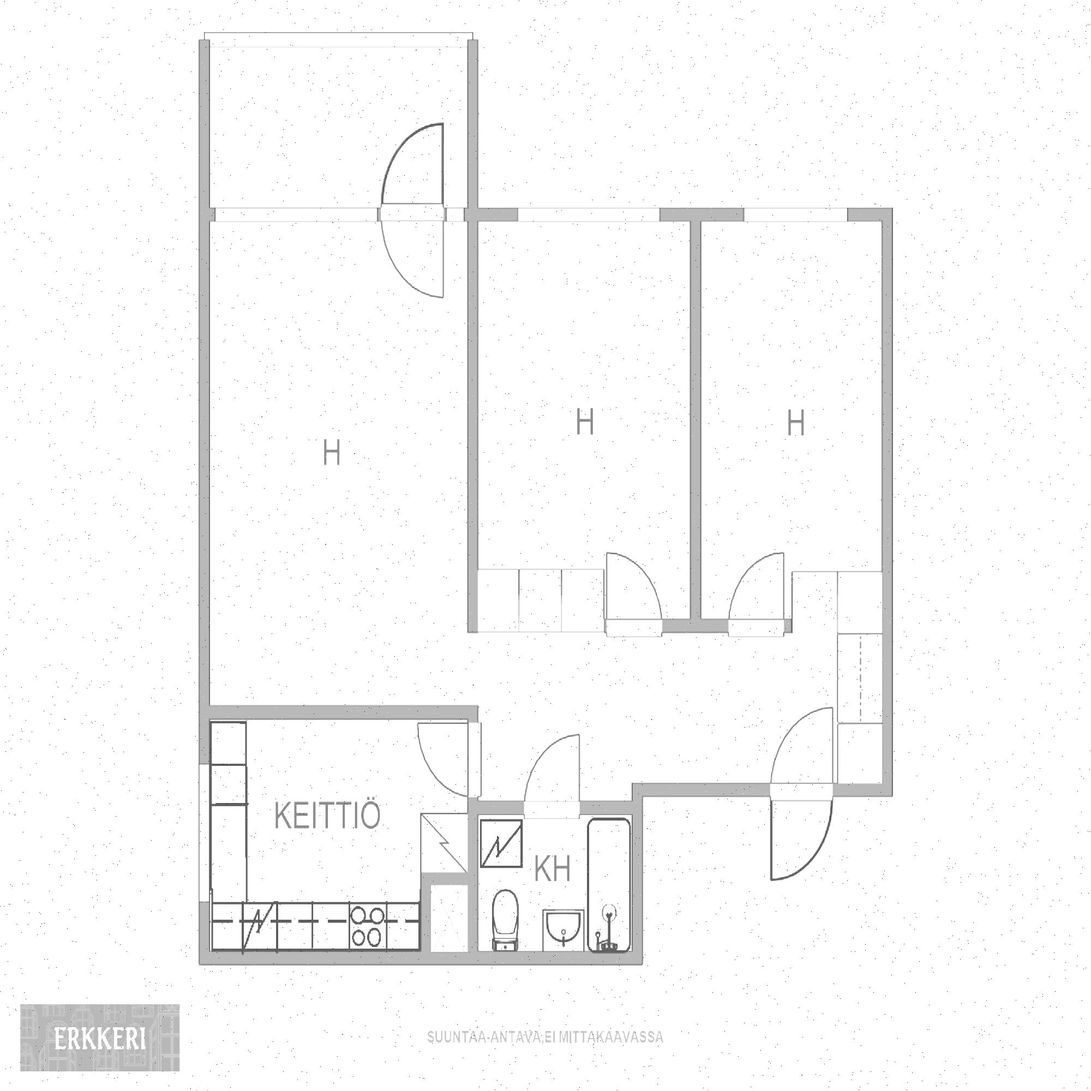wall: (199, 208, 893, 221), (198, 207, 208, 963), (199, 950, 643, 964), (883, 208, 893, 797), (198, 704, 478, 721), (468, 208, 478, 631), (690, 208, 700, 631), (633, 783, 893, 797), (604, 617, 793, 631), (468, 707, 478, 964), (468, 801, 643, 814), (633, 783, 643, 964), (198, 32, 208, 207), (468, 32, 478, 207)
